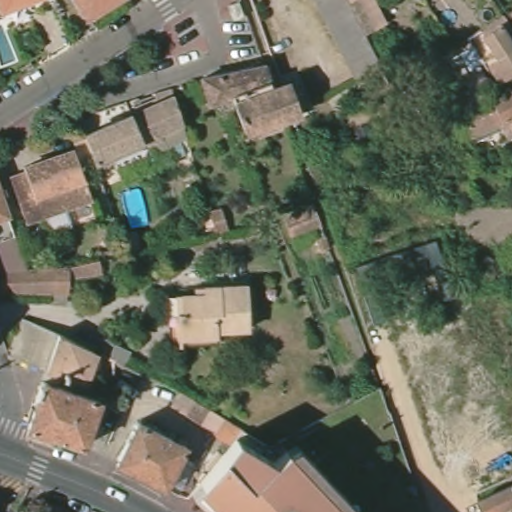pool: (114, 183, 154, 231), (1, 22, 18, 69), (440, 9, 460, 26)
